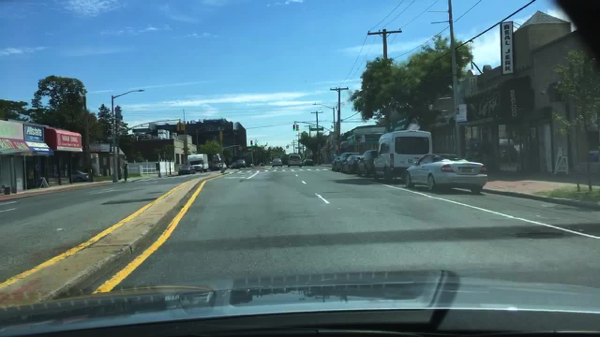car: (404, 153, 488, 195), (372, 129, 433, 182), (330, 152, 359, 173), (360, 148, 377, 177), (342, 154, 363, 174), (67, 170, 91, 182), (286, 154, 302, 167), (178, 164, 195, 176), (210, 162, 227, 172), (270, 157, 282, 169), (229, 162, 241, 170), (303, 159, 314, 166), (301, 156, 310, 164), (239, 160, 248, 168), (248, 161, 256, 167), (258, 161, 263, 167), (268, 160, 272, 166)
person: (123, 163, 129, 181)
traffic light: (181, 122, 184, 132), (295, 124, 299, 131), (177, 123, 180, 131), (250, 141, 253, 147), (293, 124, 295, 131)
traffic sign: (311, 128, 323, 131)
truck: (187, 154, 210, 173)
